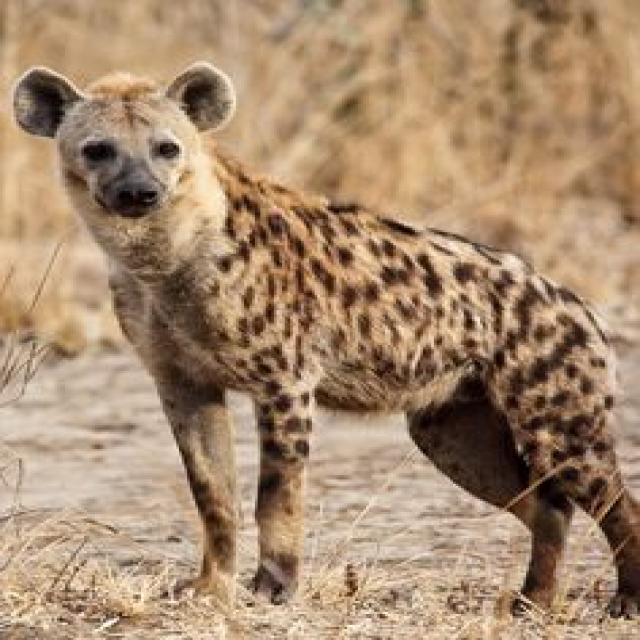Carnivorous: (11, 63, 640, 620)
